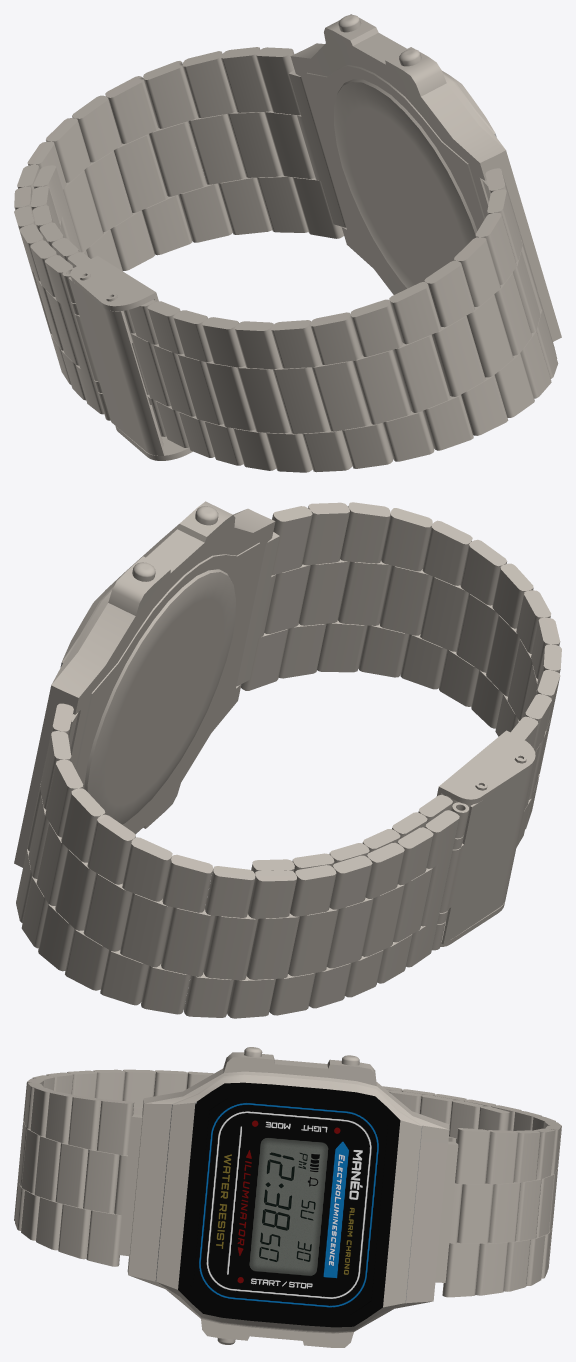
Rendered from GenericProp-Watch.fbx.
3 views of the same model, one above another, from view 1: azimuth 30°, elevation 25°; view 2: azimuth 150°, elevation 25°; view 3: azimuth 270°, elevation 25° (orthographic). The views are drawn at different scales.
Visible parts, largest first — view 1: digitalWristwtach; view 2: digitalWristwtach; view 3: digitalWristwtach.
Part boxes in pixels (<box>): digitalWristwtach: <box>14,14,561,472</box>; digitalWristwtach: <box>14,501,561,1018</box>; digitalWristwtach: <box>14,1047,561,1347</box>.
Bounding box in the file's own units: 38.69 × 30.65 × 56.12.
